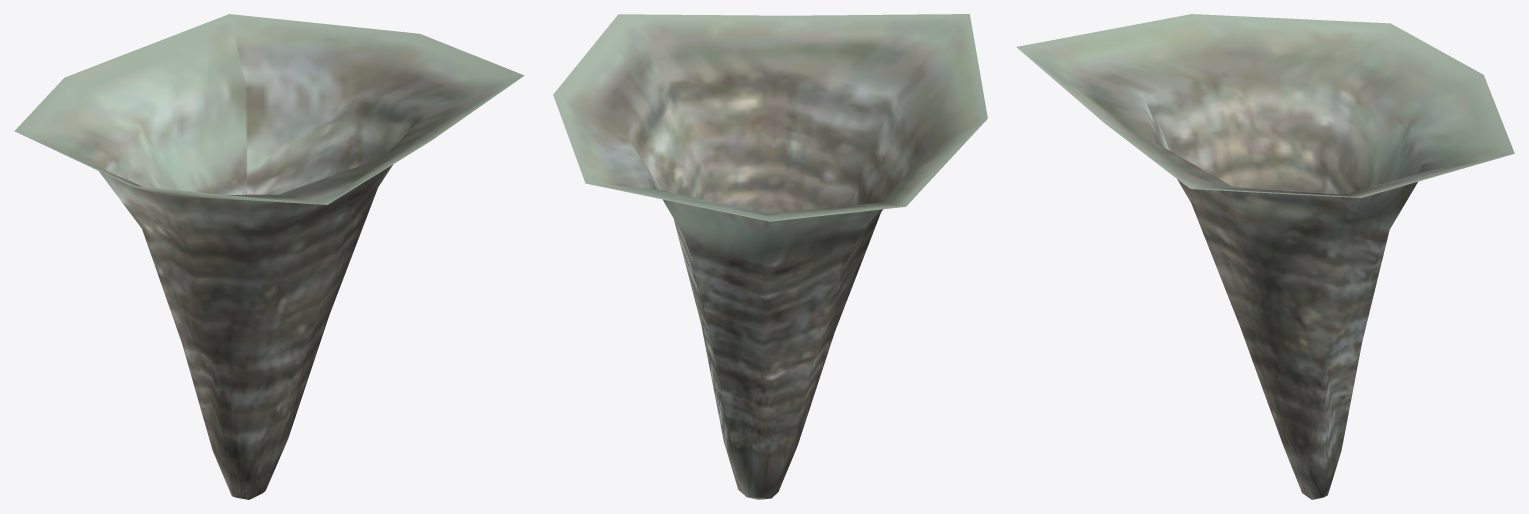
File: TROLLHOLE02_PS-MAINSTALAG86.fbx
3 views of the same model, side by side, from view 1: azimuth 30°, elevation 25°; view 2: azimuth 150°, elevation 25°; view 3: azimuth 270°, elevation 25° (orthographic). The views are drawn at different scales.
Parts seen in each view (by area): view 1: TROLLHOLE02_PS-MAINSTALAG86; view 2: TROLLHOLE02_PS-MAINSTALAG86; view 3: TROLLHOLE02_PS-MAINSTALAG86.
Part boxes in pixels (x1,y1,x2,y2): TROLLHOLE02_PS-MAINSTALAG86: [14, 14, 524, 499]; TROLLHOLE02_PS-MAINSTALAG86: [553, 14, 987, 499]; TROLLHOLE02_PS-MAINSTALAG86: [1016, 14, 1514, 499].
Bounding box in the file's own units: 24339 × 24154 × 26197.
Materials: 1 (1 with a texture image).
